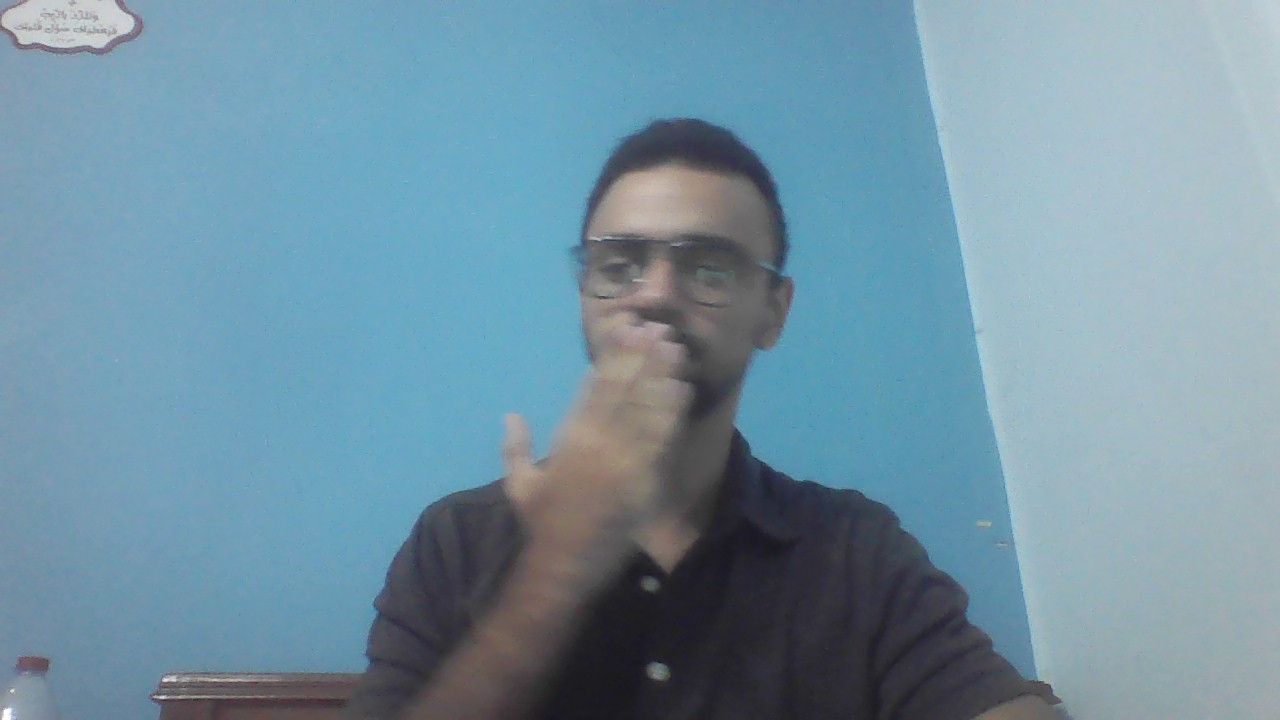thankyou: (496, 303, 699, 564)
